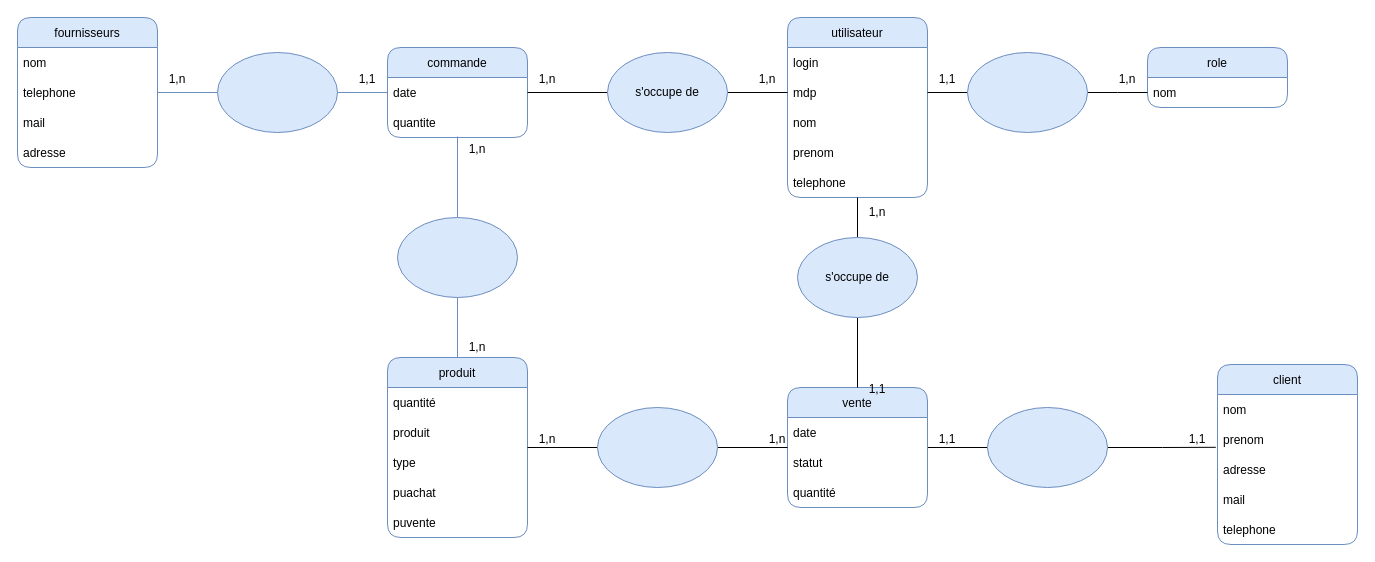
Image size: 1375x562. Some labels were removed from this diagram. The shapes that lost their labels are listed below. From the top down, each one's centre as x and y in pixels, then its label:
the point at 277,92: livre
the point at 1027,92: possède
the point at 457,257: stocké dans
the point at 657,447: utilisé dans
the point at 1047,447: vendu à
